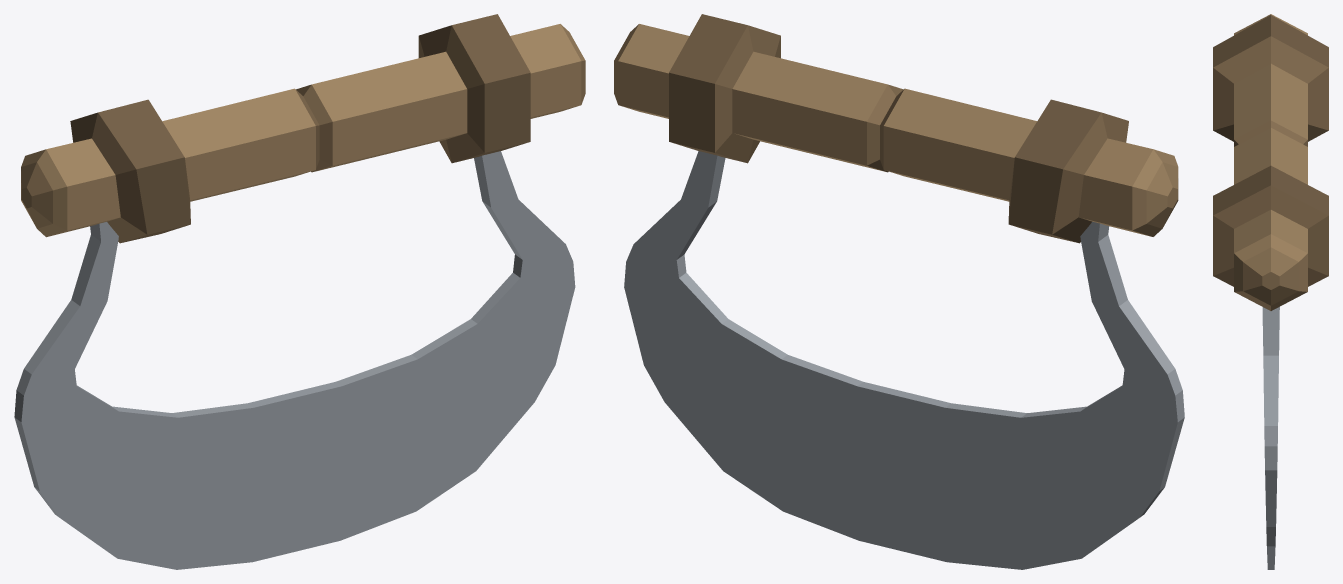
The model's file is WF_LP_HT_Props_Chopper.002.fbx.
3 renders of one model, left to right at view 1: azimuth 30°, elevation 25°; view 2: azimuth 150°, elevation 25°; view 3: azimuth 270°, elevation 25°, orthographic. The views are drawn at different scales.
Visible parts, largest first — view 1: WF_LP_HT_Props_Chopper.002; view 2: WF_LP_HT_Props_Chopper.002; view 3: WF_LP_HT_Props_Chopper.002.
Part boxes in pixels (bbox=[...]): WF_LP_HT_Props_Chopper.002: bbox=[14, 14, 585, 569]; WF_LP_HT_Props_Chopper.002: bbox=[614, 14, 1184, 569]; WF_LP_HT_Props_Chopper.002: bbox=[1213, 14, 1328, 569].
Size of the model in its own units: 0.1951 by 0.1616 by 0.0397.
